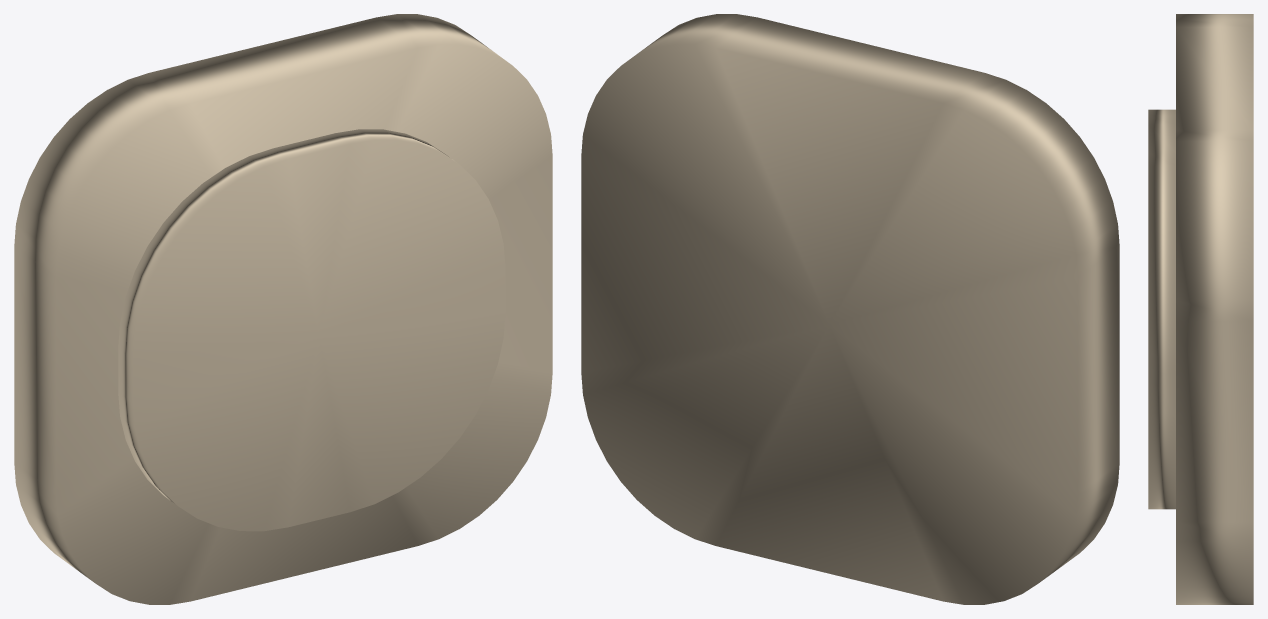
File: toast.glb
The picture shows the model from 3 angles, left to right: view 1: azimuth 30°, elevation 25°; view 2: azimuth 150°, elevation 25°; view 3: azimuth 270°, elevation 25°; orthographic projection. The views are drawn at different scales.
Parts seen in each view (by area): view 1: toast, crown; view 2: toast; view 3: toast, crown.
Part boxes in pixels (box(x1,y1,x2,y2)): toast: box(14, 14, 552, 604); crown: box(118, 129, 505, 531); toast: box(581, 14, 1119, 604); toast: box(1176, 14, 1253, 604); crown: box(1148, 109, 1175, 509).
Size of the model in its own units: 0.096 by 0.092 by 0.019.
